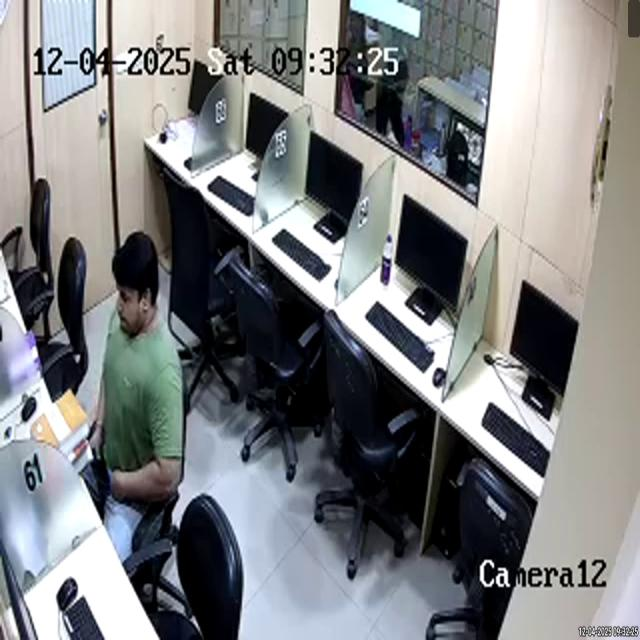phone: (92, 422, 117, 498)
